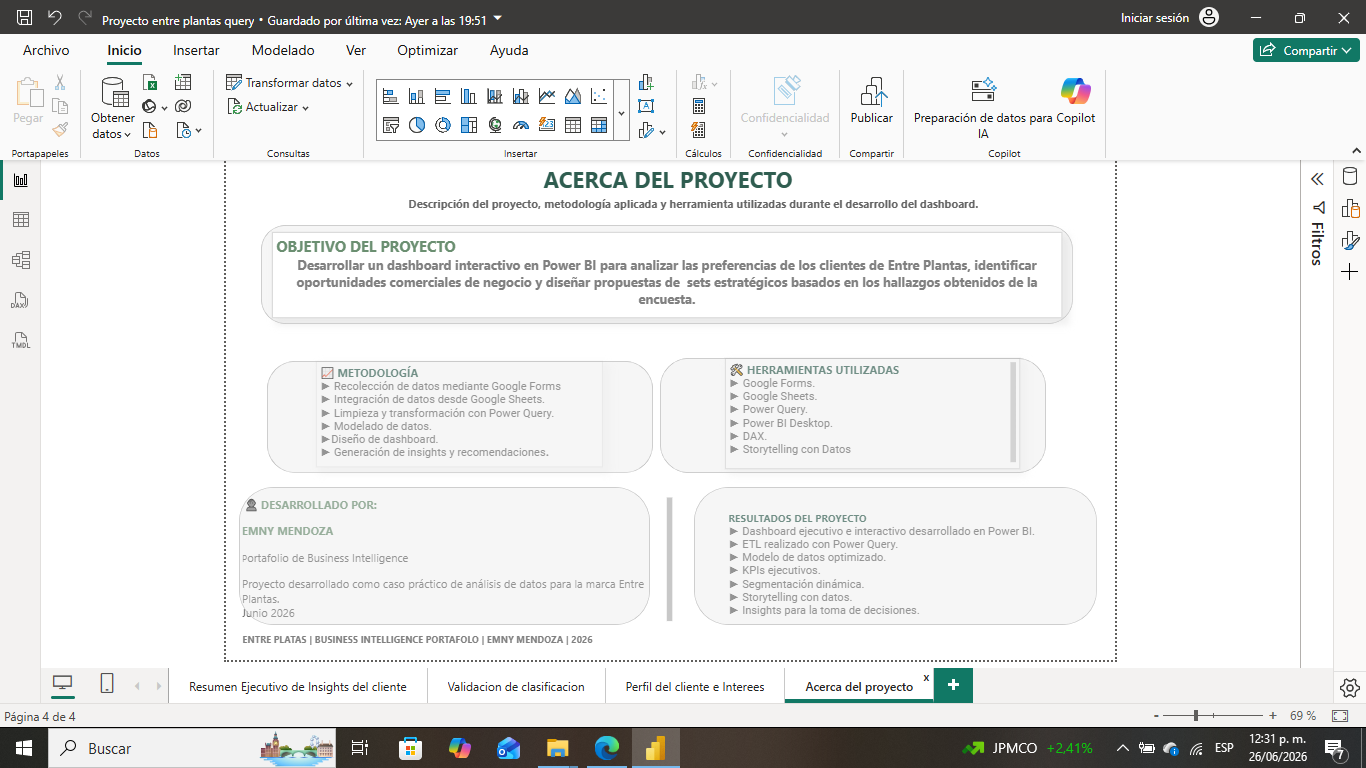

The dashboard page shown, as its layout file describes it:
{"tool":"powerbi","page":{"name":"Acerca del proyecto","canvas":[1280,720],"ordinal":3},"visuals":[{"type":"textbox","box":[10.1,0,1252.8,93.6],"z":0},{"type":"textbox","box":[244.8,47.5,856.8,31.7],"z":1000},{"type":"shape","box":[50.4,93.6,1169.3,142.6],"z":2000},{"type":"textbox","box":[66.2,103.7,1137.6,123.8],"z":3000},{"type":"textbox","box":[129.6,289.4,413.3,152.6],"z":4000},{"type":"textbox","box":[718.6,285.1,424.8,159.8],"z":5000},{"type":"textbox","box":[18.7,481,629.3,195.8],"z":6000},{"type":"shape","box":[59,289.4,555.8,161.3],"z":7000},{"type":"shape","box":[625,285.1,555.8,165.6],"z":8000},{"type":"shape","box":[18.7,470.9,591.8,198.7],"z":9000},{"type":"textbox","box":[18.7,676.8,1244.2,33.1],"z":10000},{"type":"textbox","box":[718.6,499.7,512.6,169.9],"z":11000},{"type":"shape","box":[673.9,470.9,580.3,198.7],"z":12000}]}

Visuals, with their boxes on the page's 1280x720 design canvas (x1, y1, x2, y2). These are canvas units, not pixel positions in the 1366x768 screenshot, which may show the page scaled, cropped or inside an application window:
textbox: BBox(10, 0, 1263, 94)
textbox: BBox(245, 48, 1102, 79)
shape: BBox(50, 94, 1220, 236)
textbox: BBox(66, 104, 1204, 228)
textbox: BBox(130, 289, 543, 442)
textbox: BBox(719, 285, 1143, 445)
textbox: BBox(19, 481, 648, 677)
shape: BBox(59, 289, 615, 451)
shape: BBox(625, 285, 1181, 451)
shape: BBox(19, 471, 610, 670)
textbox: BBox(19, 677, 1263, 710)
textbox: BBox(719, 500, 1231, 670)
shape: BBox(674, 471, 1254, 670)
